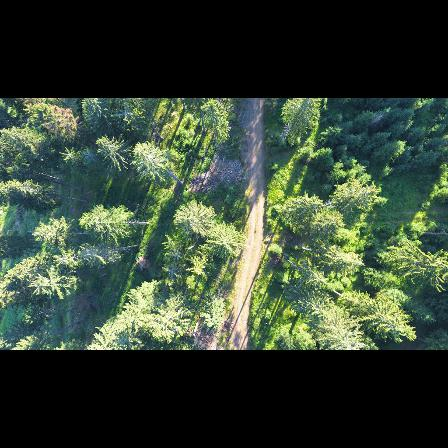Sick: (79, 145, 97, 163)
